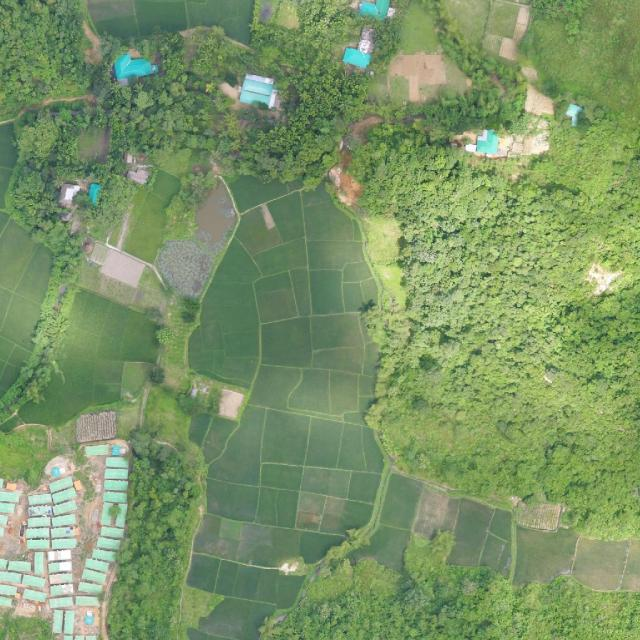agricultural_land: (187, 178, 385, 640), (404, 270, 408, 278)
building: (382, 47, 473, 106), (216, 82, 247, 102)
